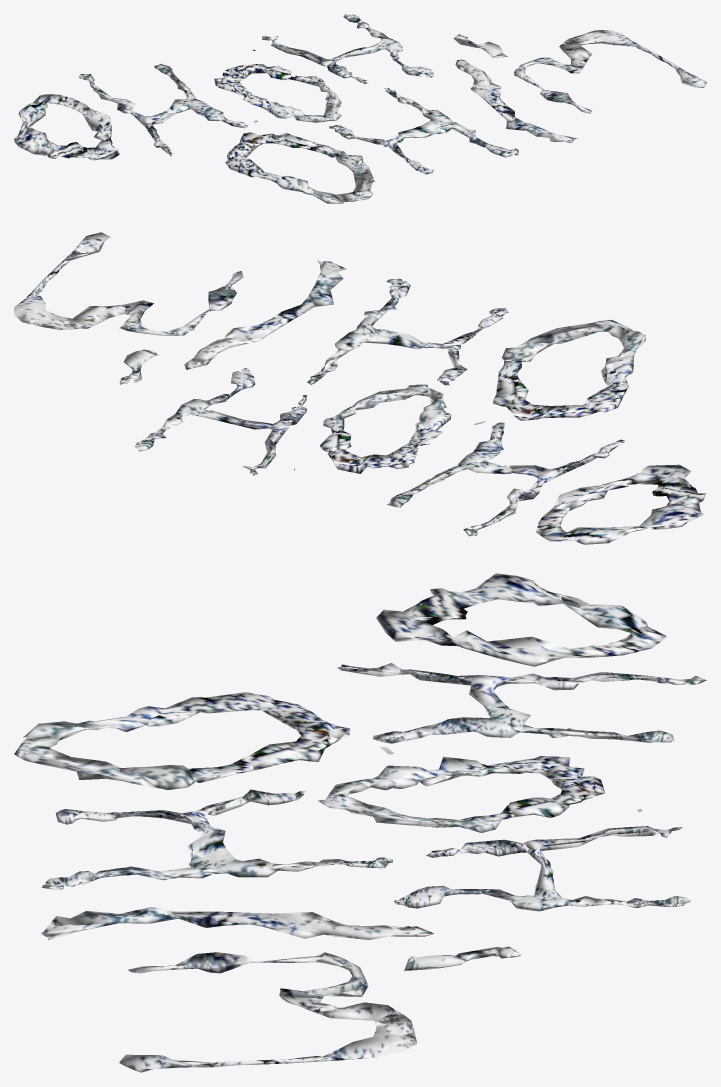
File: 15_OHOH_IM.glb
3 renders of one model, top to bottom at view 1: azimuth 30°, elevation 25°; view 2: azimuth 150°, elevation 25°; view 3: azimuth 270°, elevation 25°, orthographic. The views are drawn at different scales.
Parts seen in each view (by area): view 1: 15_OHOH_IM; view 2: 15_OHOH_IM; view 3: 15_OHOH_IM.
Part boxes in pixels (left/top/right/bottom): 15_OHOH_IM: left=14, top=14, right=706, bottom=203; 15_OHOH_IM: left=14, top=232, right=706, bottom=544; 15_OHOH_IM: left=14, top=573, right=706, bottom=1072.
Size of the model in its own units: 4.25 by 0.0449 by 2.52.
Materials: 1 (1 with a texture image).
